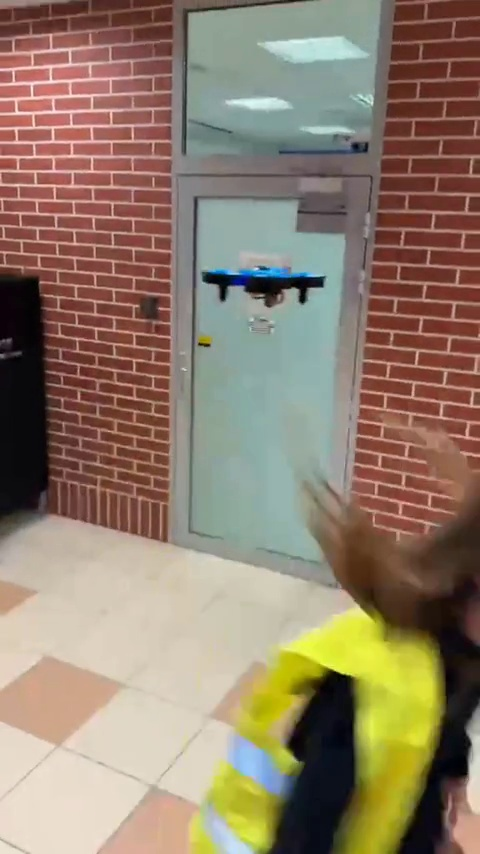drone: (195, 259, 334, 306)
vest: (230, 461, 478, 854)
